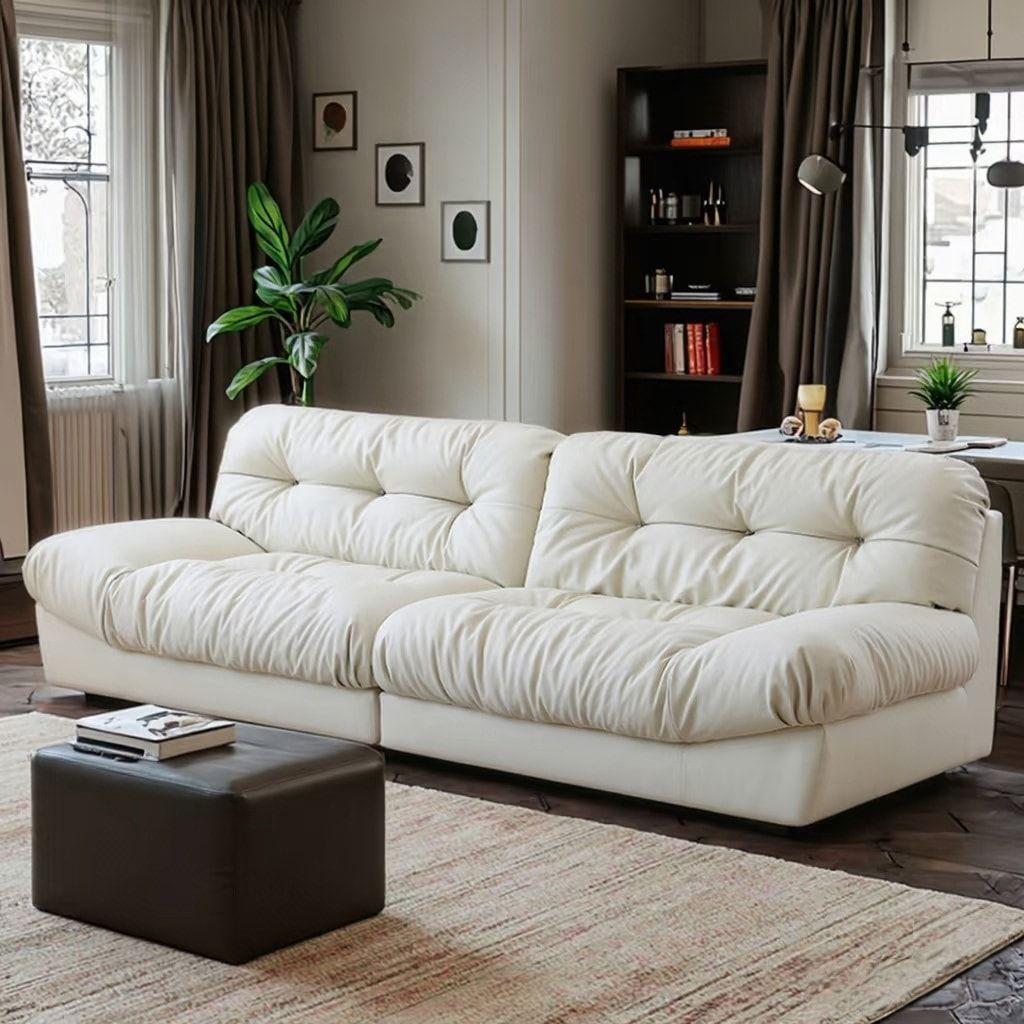3seatersofa: (25, 406, 1001, 825)
backrest: (211, 406, 987, 617)
base: (37, 605, 993, 824)
seat: (27, 521, 976, 740)
